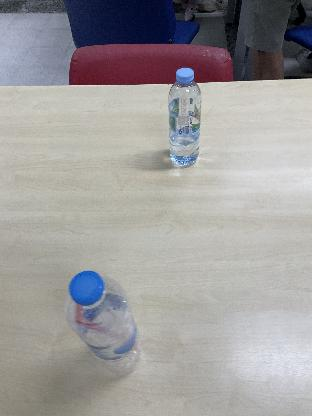Plastic Bottle: (66, 268, 144, 380), (168, 66, 202, 168)
